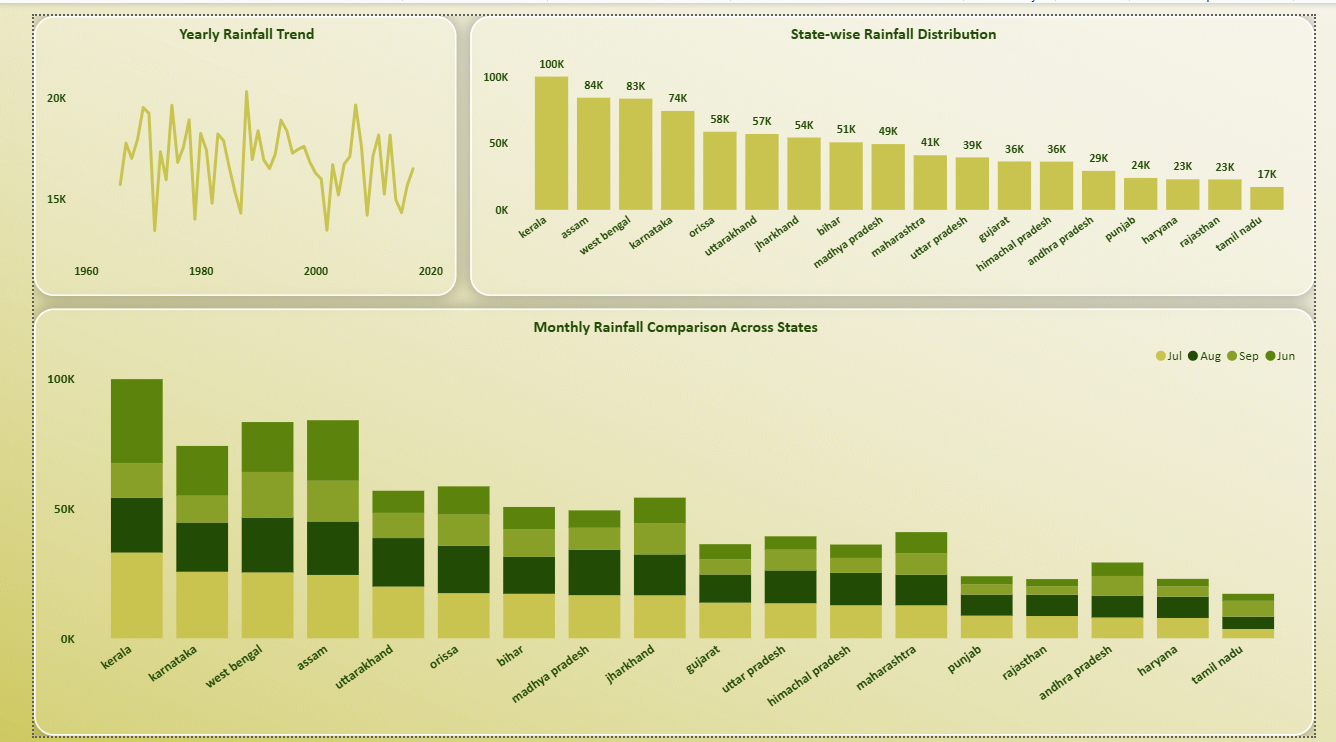

What the dashboard file says about the page in this screenshot:
{"tool":"powerbi","page":{"name":"Temporal Rainfall Trends","canvas":[1280,720],"ordinal":1},"visuals":[{"type":"lineChart","title":"Yearly Rainfall Trend","fields":{"Category":["rain-agriculture.Year"],"Y":["All_Measure.Total_Rainfall_Meaasure"]},"box":[0,0,422.5,280],"z":0},{"type":"clusteredColumnChart","title":"State-wise Rainfall Distribution","fields":{"Category":["rain-agriculture.State Name"],"Y":["All_Measure.Total_Rainfall_Meaasure"]},"box":[436.6,0,843.8,280],"z":1000},{"type":"columnChart","title":"Monthly Rainfall Comparison Across States","fields":{"Category":["rain-agriculture.State Name"],"Y":["Sum(rain-agriculture.JUL)","Sum(rain-agriculture.AUG)","Sum(rain-agriculture.SEP)","Sum(rain-agriculture.JUN)"]},"box":[0,292.5,1280,427.5],"z":3000}]}

Visuals, with their boxes in screenshot pixels (x1, y1, x2, y2), scaled from the page's 1280x720 canvas onto the 1336x742 screenshot:
"Yearly Rainfall Trend" lineChart: select_region(0, 0, 441, 289)
"State-wise Rainfall Distribution" clusteredColumnChart: select_region(456, 0, 1335, 289)
"Monthly Rainfall Comparison Across States" columnChart: select_region(0, 301, 1335, 741)
